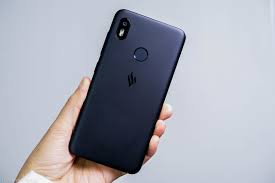vsmart: (66, 7, 186, 174)
